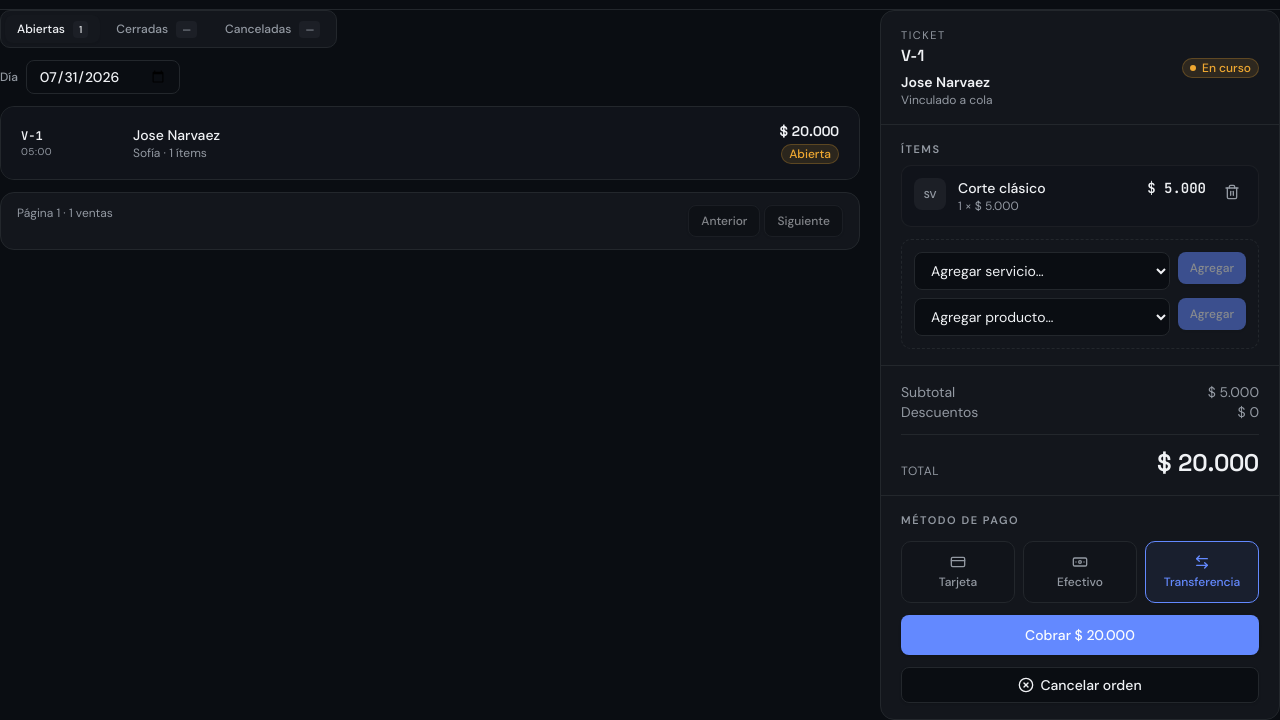
SalesView › charges with transfer default only after confirming the payment dialog
(page scrolled)
Click the button "Cobrar $ 20.000" at {"x": 1080, "y": 635}, box [901,615,1259,655]
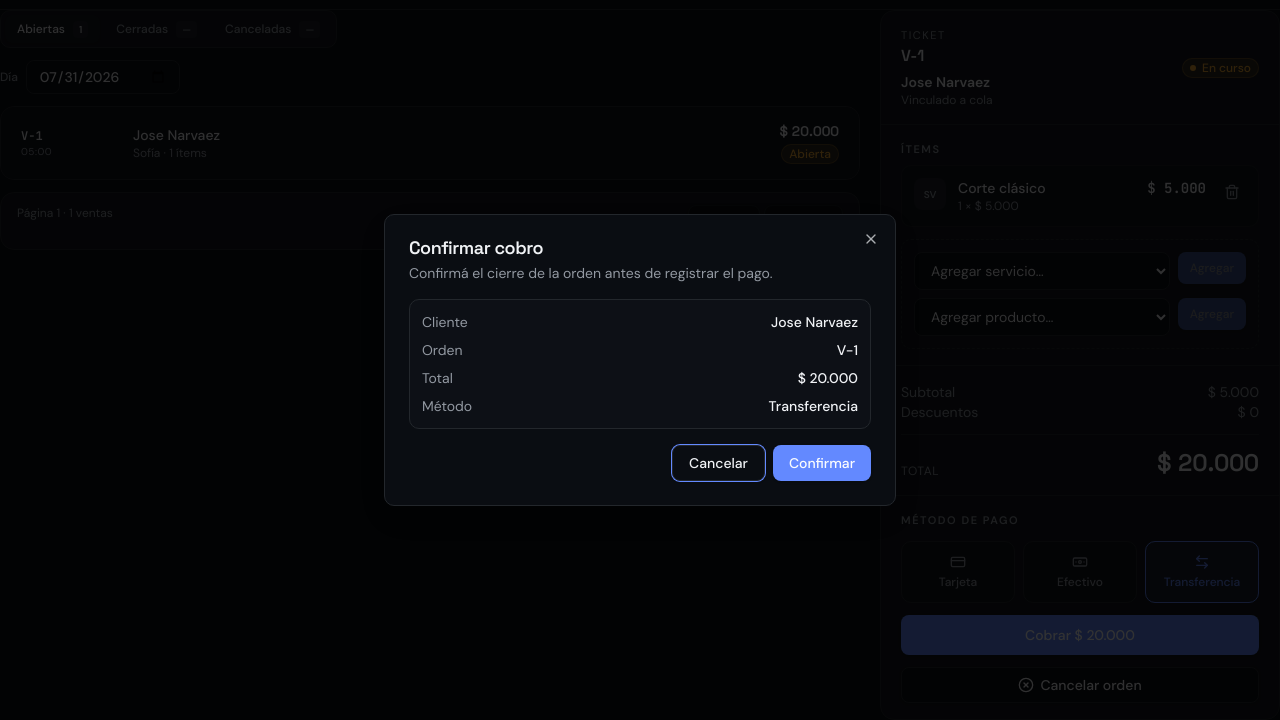
Click the button "Confirmar" at {"x": 822, "y": 463}, box [773,445,871,481]
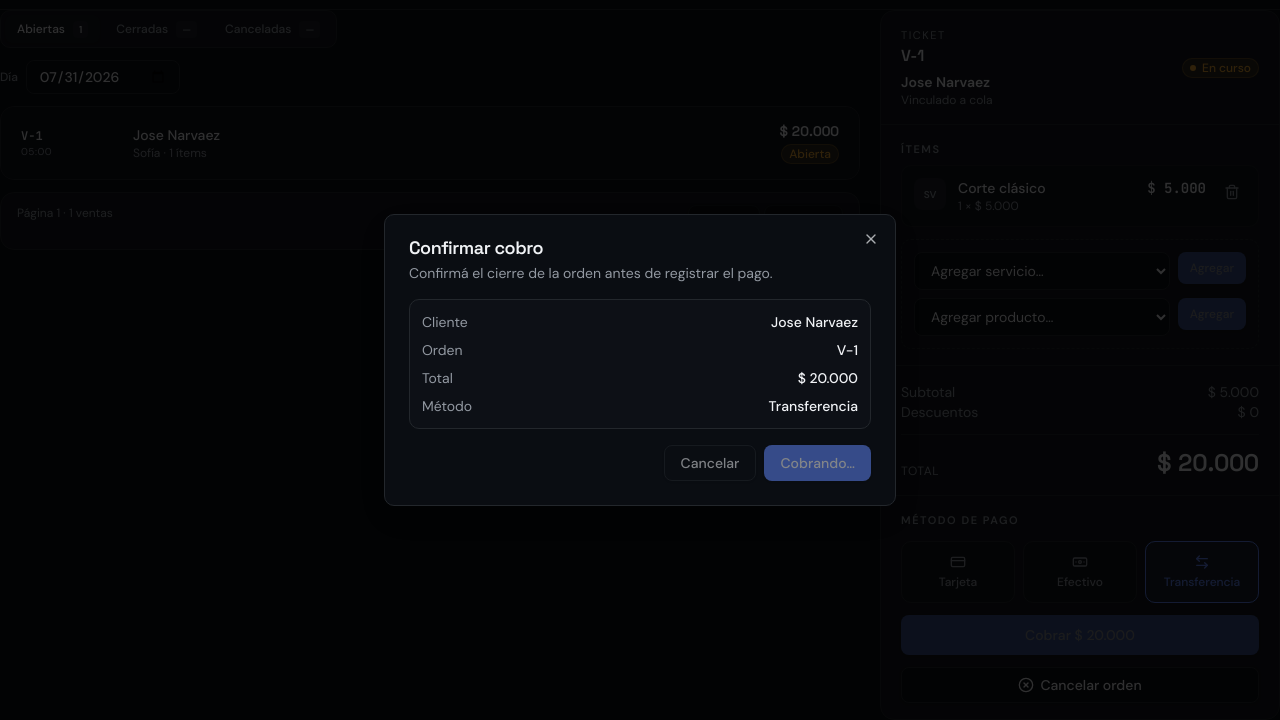
Expected: the button "Cobrando…" is disabled, [764,445,871,481]
